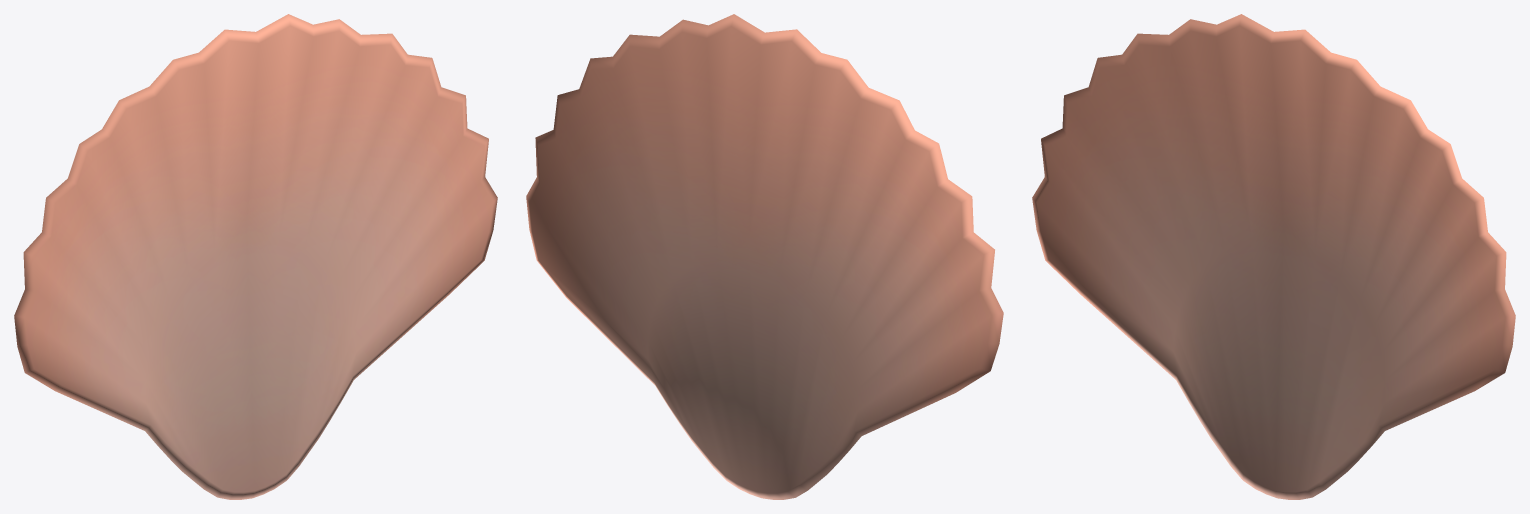
File: shell.gltf
3 renders of one model, left to right at view 1: azimuth 30°, elevation 25°; view 2: azimuth 150°, elevation 25°; view 3: azimuth 330°, elevation 25°, orthographic.
Parts seen in each view (by area): view 1: LP; view 2: LP; view 3: LP.
Part boxes in pixels (x1,y1,x2,y2): LP: (14, 14, 497, 499); LP: (526, 14, 1003, 499); LP: (1032, 14, 1515, 499).
Bounding box in the file's own units: 1.5 × 1.42 × 0.1095.
1 material, 1 textured.
